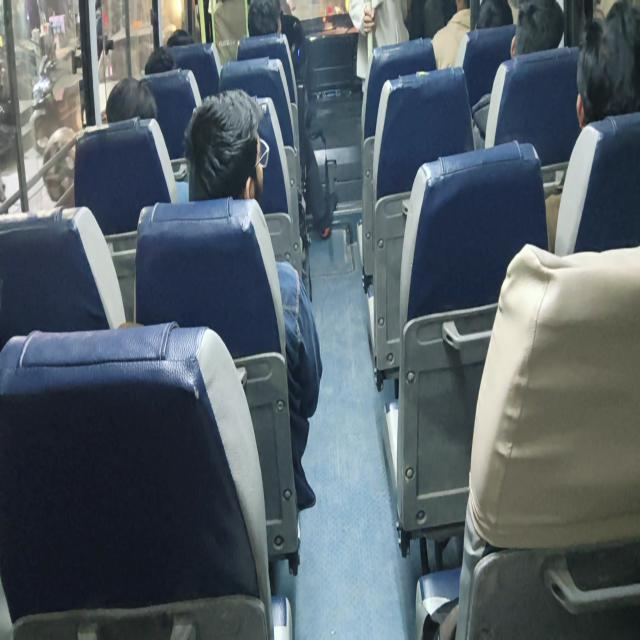person: (192, 90, 284, 213), (574, 13, 640, 122), (111, 82, 165, 140), (515, 2, 564, 53), (245, 0, 292, 50), (469, 0, 511, 37), (142, 43, 186, 78), (164, 26, 203, 46)
